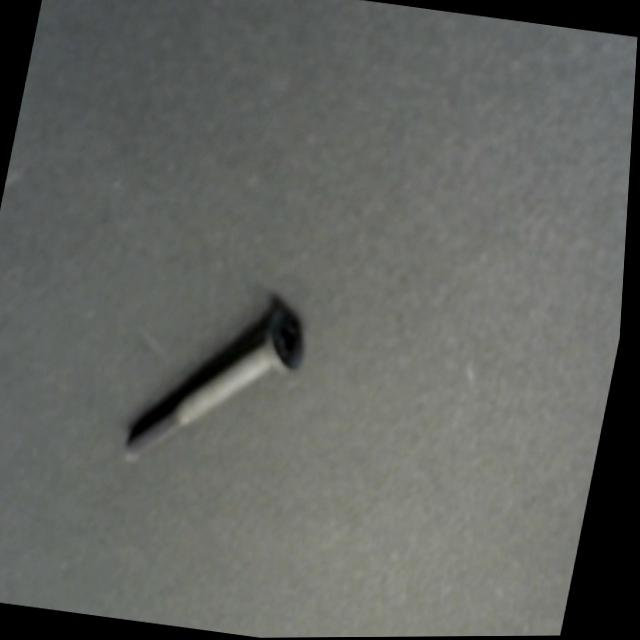FlatHeadSocketScrew: (117, 283, 330, 496)
